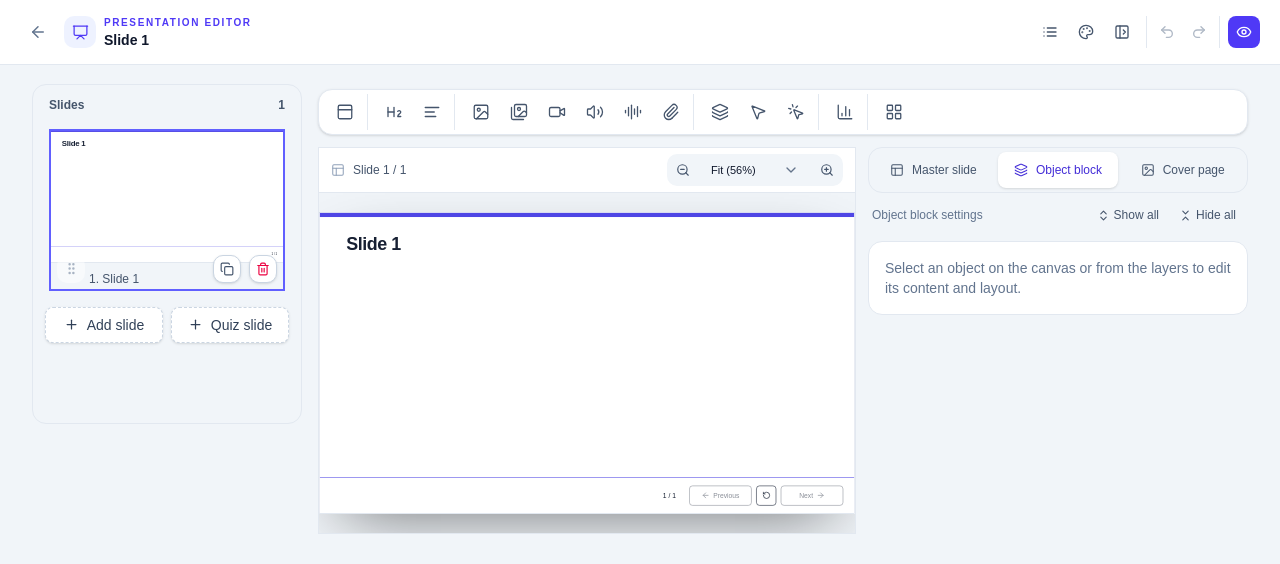
Test: course outline editing › opens a slide course with a thumbnail panel and adds and selects slides in place
The width and height of the screenshot is (1280, 564).
Expected: the element named "Presentation slide editor" is shown, [318,89,1248,534]
Expected: the element named "Slide thumbnails" is shown, [32,84,302,424]
Click the button "Add slide" at (104, 325), box [45,307,163,343]
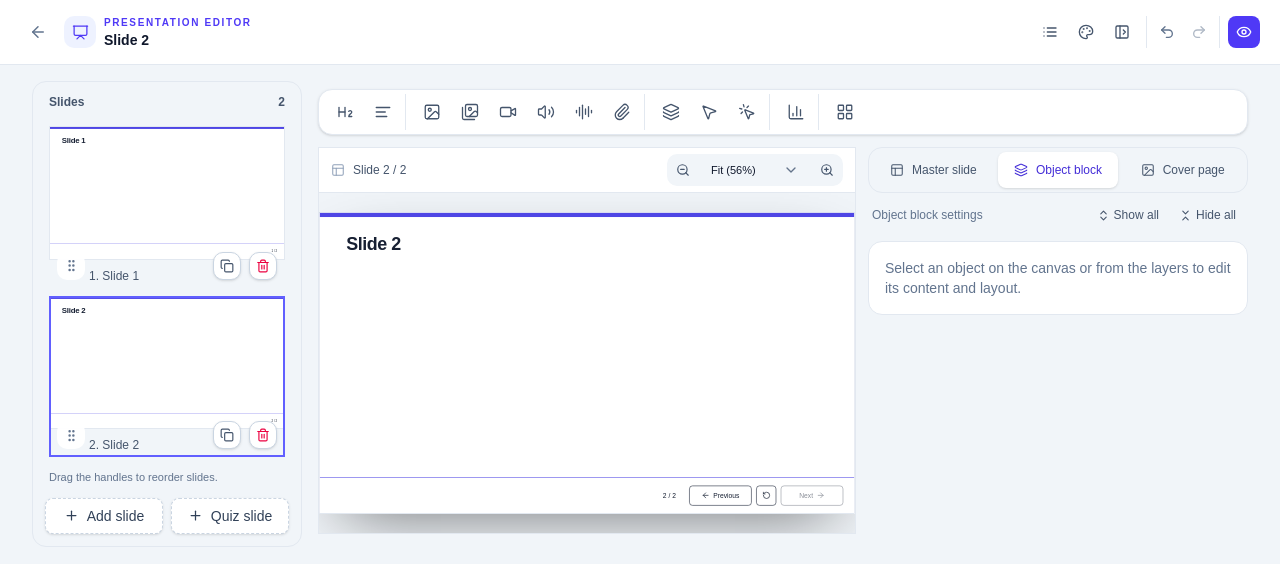
Result: the button named "Edit slide 2: Slide 2" is marked as current at [49,296,285,457]
Click the button named "Edit slide 1: Slide 1" at (167, 207), box [49,126,285,288]
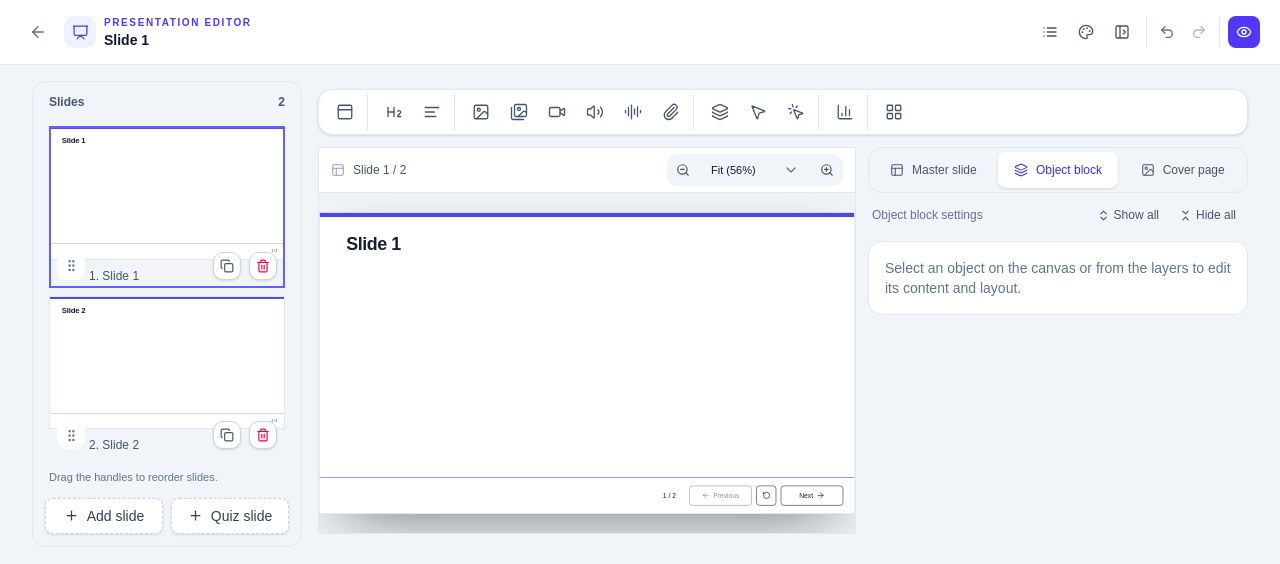
Result: the field named "Slide title" holds "Slide 1" at [346,233,828,255]
